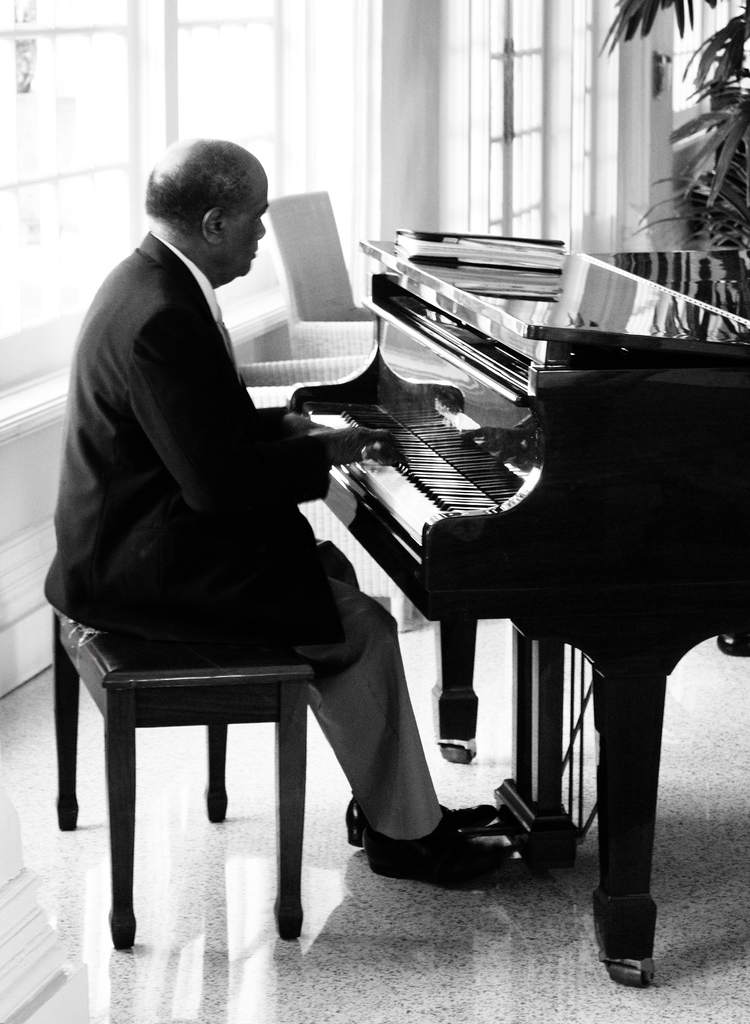face: (217, 176, 268, 277)
